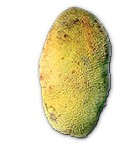jackfruit: (34, 5, 113, 139)
